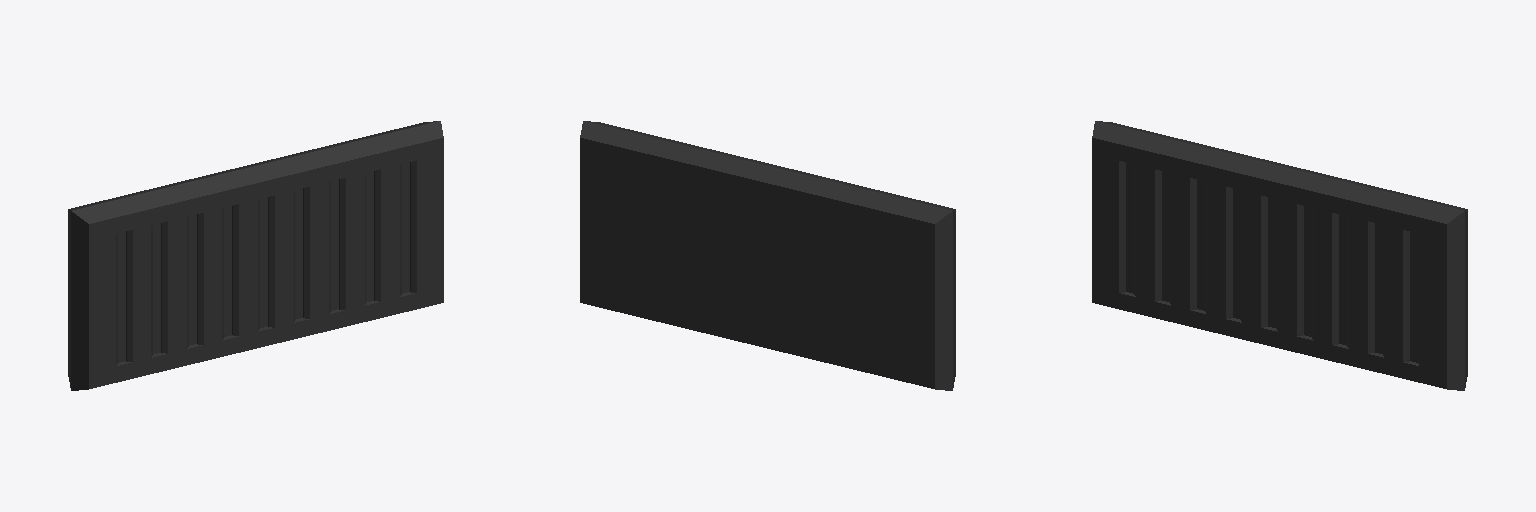
Rendered from vent.obj.
The picture shows the model from 3 angles: view 1: azimuth 30°, elevation 25°; view 2: azimuth 150°, elevation 25°; view 3: azimuth 330°, elevation 25°; orthographic projection.
Visible parts, largest first — view 1: Vent_Cube.048; view 2: Vent_Cube.048; view 3: Vent_Cube.048.
Boxes of the visible parts, box(x1,y1,x2,y2) form: Vent_Cube.048: box(68, 121, 443, 390); Vent_Cube.048: box(580, 121, 955, 390); Vent_Cube.048: box(1092, 121, 1467, 390).
Size of the model in its own units: 1.33 by 0.6194 by 0.1283.